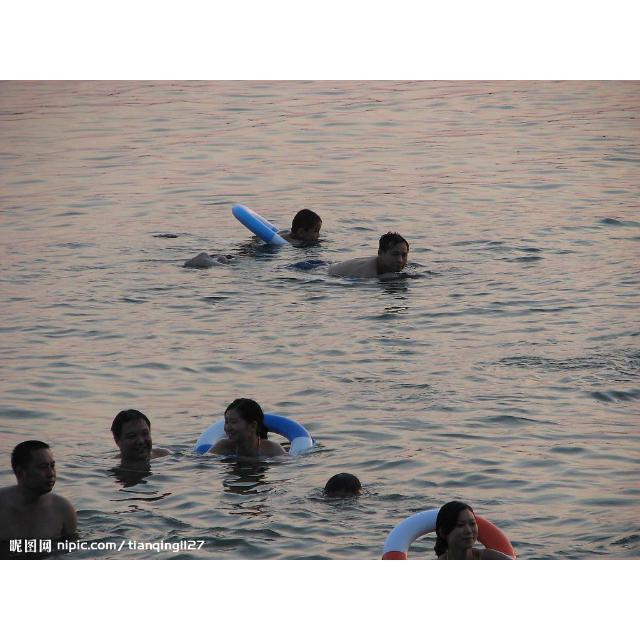human: (1, 441, 97, 559), (211, 395, 285, 466), (434, 501, 515, 559), (327, 232, 411, 283), (110, 408, 171, 473), (276, 209, 324, 252)
